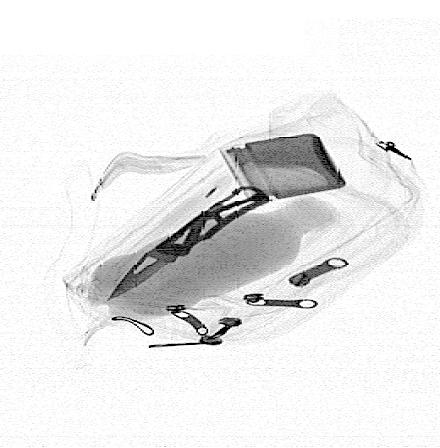Knife: (106, 185, 271, 303)
